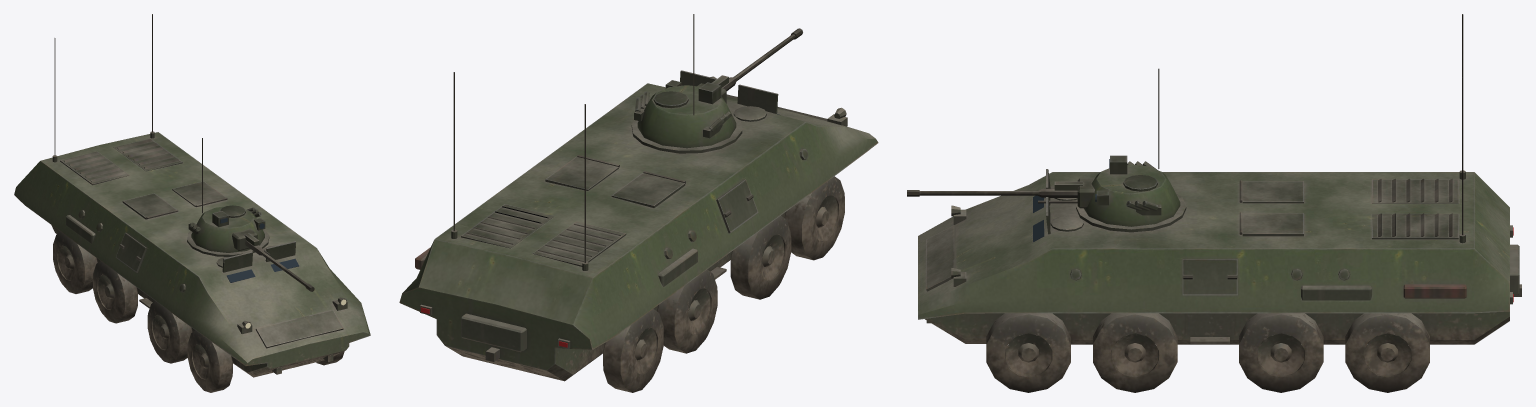
The model's file is Weathered_APC.fbx.
3 renders of one model, left to right at view 1: azimuth 30°, elevation 25°; view 2: azimuth 150°, elevation 25°; view 3: azimuth 270°, elevation 25°, orthographic. The views are drawn at different scales.
Visible parts, largest first — view 1: Enemy_APC_Mesh, Turret, Barrel; view 2: Enemy_APC_Mesh, Turret, Barrel; view 3: Enemy_APC_Mesh, Turret, Barrel.
Part boxes in pixels (bbox=[...]): Enemy_APC_Mesh: bbox=[14, 14, 370, 392]; Turret: bbox=[187, 138, 269, 256]; Barrel: bbox=[232, 229, 314, 291]; Enemy_APC_Mesh: bbox=[399, 70, 878, 392]; Turret: bbox=[631, 14, 742, 153]; Barrel: bbox=[697, 28, 802, 103]; Enemy_APC_Mesh: bbox=[918, 14, 1521, 392]; Turret: bbox=[1076, 68, 1186, 232]; Barrel: bbox=[907, 178, 1094, 208].
Bounding box in the file's own units: 2.95 × 4.28 × 7.79.
